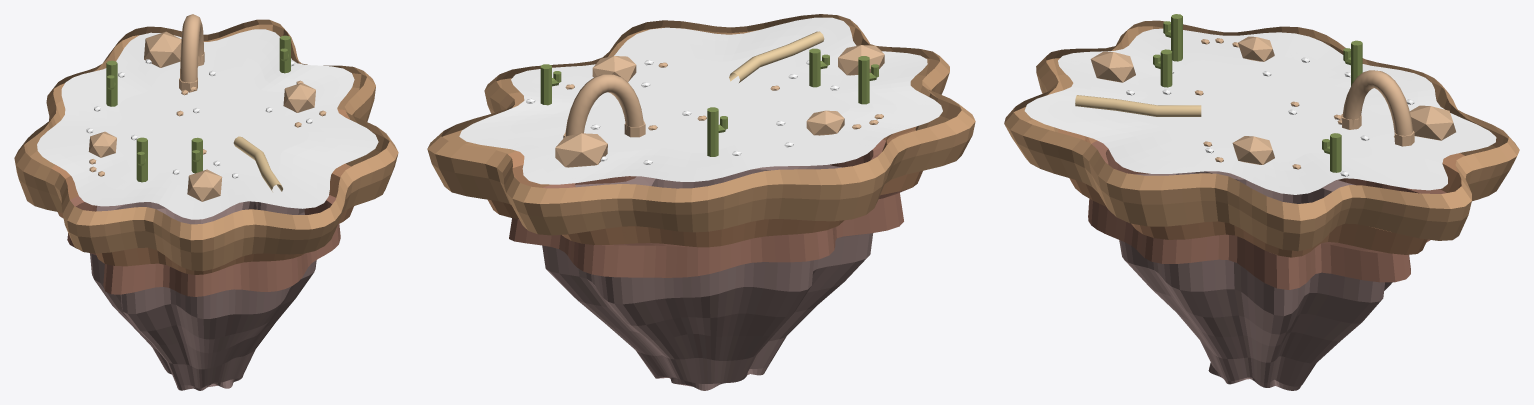
File: FI-023-Copperwind-Table.glb
The picture shows the model from 3 angles, left to right: view 1: azimuth 30°, elevation 25°; view 2: azimuth 150°, elevation 25°; view 3: azimuth 270°, elevation 25°; orthographic projection. The views are drawn at different scales.
Parts seen in each view (by area): view 1: FI-023_StratifiedFloatingCliff, FI-023_BuildableTop, SunspineNaturalArch, SandstoneBoulder_01, SandstoneBoulder_00, DryWash, SandstoneBoulder_03, SandstoneBoulder_02, Saguaro_02_Trunk, Saguaro_00_Trunk, Saguaro_03_Trunk, Saguaro_01_Trunk; view 2: FI-023_StratifiedFloatingCliff, FI-023_BuildableTop, SunspineNaturalArch, SandstoneBoulder_01, DryWash, SandstoneBoulder_00, SandstoneBoulder_03, SandstoneBoulder_02, Saguaro_02_Trunk, Saguaro_00_Trunk, Saguaro_03_Trunk; view 3: FI-023_StratifiedFloatingCliff, FI-023_BuildableTop, SunspineNaturalArch, DryWash, SandstoneBoulder_01, SandstoneBoulder_00, SandstoneBoulder_03, SandstoneBoulder_02, Saguaro_00_Trunk, Saguaro_01_Trunk, Saguaro_03_Trunk, Saguaro_02_Trunk.
Part boxes in pixels (x1=…): FI-023_StratifiedFloatingCliff: x1=14, y1=19, x2=398, y2=390; FI-023_BuildableTop: x1=37, y1=29, x2=378, y2=219; SunspineNaturalArch: x1=180, y1=14, x2=203, y2=82; SandstoneBoulder_01: x1=144, y1=31, x2=181, y2=67; SandstoneBoulder_00: x1=187, y1=169, x2=222, y2=201; DryWash: x1=233, y1=136, x2=282, y2=191; SandstoneBoulder_03: x1=283, y1=83, x2=315, y2=112; SandstoneBoulder_02: x1=88, y1=131, x2=116, y2=157; Saguaro_02_Trunk: x1=106, y1=60, x2=117, y2=106; Saguaro_00_Trunk: x1=136, y1=137, x2=147, y2=182; Saguaro_03_Trunk: x1=279, y1=35, x2=290, y2=73; Saguaro_01_Trunk: x1=191, y1=137, x2=202, y2=173; FI-023_StratifiedFloatingCliff: x1=427, y1=14, x2=975, y2=390; FI-023_BuildableTop: x1=459, y1=17, x2=942, y2=184; SunspineNaturalArch: x1=565, y1=74, x2=643, y2=136; SandstoneBoulder_01: x1=555, y1=133, x2=607, y2=167; DryWash: x1=729, y1=31, x2=824, y2=82; SandstoneBoulder_00: x1=838, y1=45, x2=884, y2=75; SandstoneBoulder_03: x1=592, y1=56, x2=636, y2=81; SandstoneBoulder_02: x1=806, y1=110, x2=844, y2=135; Saguaro_02_Trunk: x1=707, y1=107, x2=718, y2=156; Saguaro_00_Trunk: x1=858, y1=56, x2=869, y2=104; Saguaro_03_Trunk: x1=540, y1=64, x2=551, y2=105; FI-023_StratifiedFloatingCliff: x1=1004, y1=20, x2=1519, y2=390; FI-023_BuildableTop: x1=1024, y1=28, x2=1496, y2=194; SunspineNaturalArch: x1=1342, y1=70, x2=1412, y2=139; DryWash: x1=1075, y1=95, x2=1201, y2=116; SandstoneBoulder_01: x1=1409, y1=105, x2=1455, y2=140; SandstoneBoulder_00: x1=1090, y1=51, x2=1135, y2=82; SandstoneBoulder_03: x1=1232, y1=136, x2=1274, y2=164; SandstoneBoulder_02: x1=1238, y1=36, x2=1274, y2=61; Saguaro_00_Trunk: x1=1171, y1=14, x2=1182, y2=61; Saguaro_01_Trunk: x1=1160, y1=49, x2=1172, y2=87; Saguaro_03_Trunk: x1=1330, y1=133, x2=1341, y2=172; Saguaro_02_Trunk: x1=1351, y1=40, x2=1362, y2=85.
Bounding box in the file's own units: 13.19 × 10.3 × 14.8.
